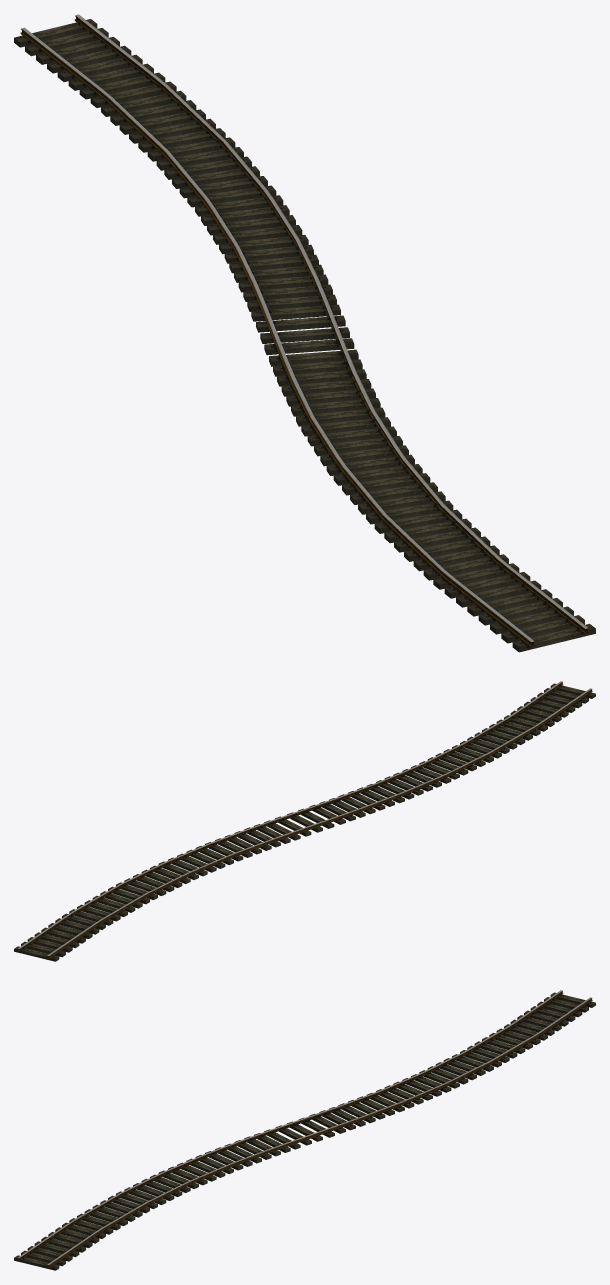
Rendered from track_curve_parallel_l.obj.
3 views of the same model, one above another, from view 1: azimuth 30°, elevation 25°; view 2: azimuth 150°, elevation 25°; view 3: azimuth 330°, elevation 25° (orthographic). The views are drawn at different scales.
Parts seen in each view (by area): view 1: 4x16track_final_left_small_straight.022; view 2: 4x16track_final_left_small_straight.022; view 3: 4x16track_final_left_small_straight.022.
Boxes of the visible parts, box(x1,y1,x2,y2) form: 4x16track_final_left_small_straight.022: box(14, 14, 595, 652); 4x16track_final_left_small_straight.022: box(14, 681, 595, 961); 4x16track_final_left_small_straight.022: box(14, 990, 595, 1270).
Size of the model in its own units: 3.94 by 0.1158 by 16.
